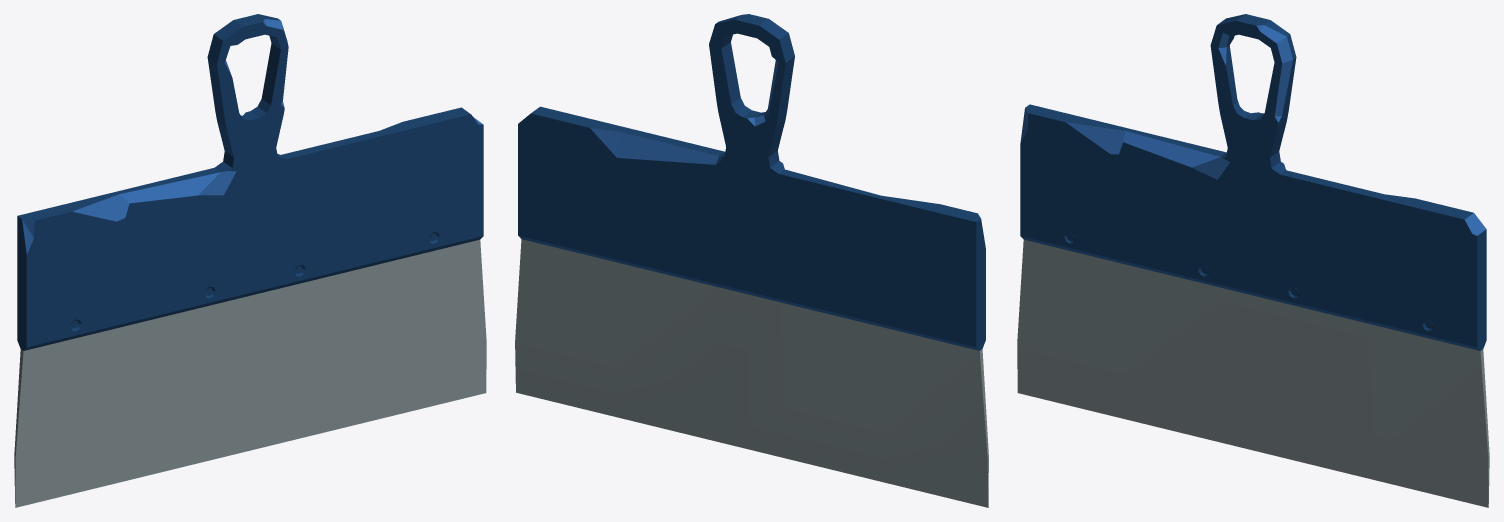
Rendered from SM_Putty_Knife_01.glb.
3 views of the same model, side by side, from view 1: azimuth 30°, elevation 25°; view 2: azimuth 150°, elevation 25°; view 3: azimuth 330°, elevation 25° (orthographic).
Visible parts, largest first — view 1: SM_Putty_Knife_01; view 2: SM_Putty_Knife_01; view 3: SM_Putty_Knife_01.
Boxes of the visible parts, box(x1,y1,x2,y2) form: SM_Putty_Knife_01: box(14, 14, 486, 507); SM_Putty_Knife_01: box(515, 14, 988, 507); SM_Putty_Knife_01: box(1017, 14, 1489, 507).
Bounding box in the file's own units: 0.2263 × 0.1973 × 0.00782.
Materials: 1 (1 with a texture image).
